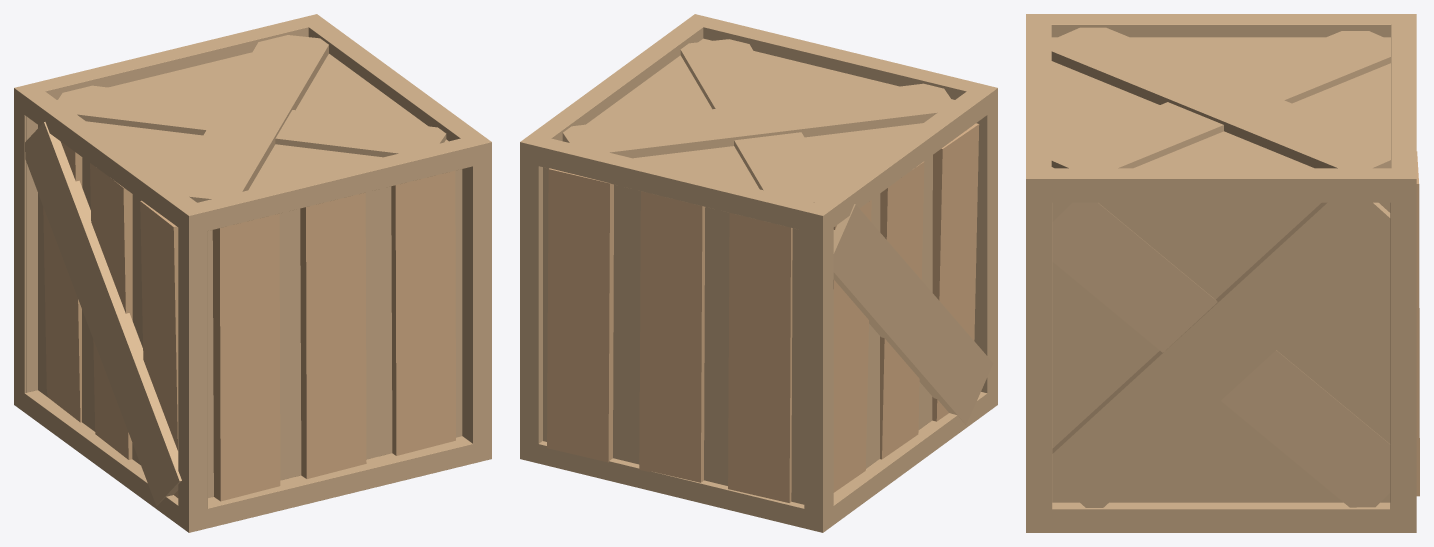
File: Crate.fbx
The picture shows the model from 3 angles, left to right: view 1: azimuth 30°, elevation 25°; view 2: azimuth 150°, elevation 25°; view 3: azimuth 270°, elevation 25°; orthographic projection. The views are drawn at different scales.
Parts seen in each view (by area): view 1: Plane.015; view 2: Plane.015; view 3: Plane.015.
Part boxes in pixels (bbox=[...]): Plane.015: bbox=[14, 14, 491, 532]; Plane.015: bbox=[520, 14, 997, 532]; Plane.015: bbox=[1026, 14, 1419, 532].
Bounding box in the file's own units: 3771 × 3741 × 3773.
